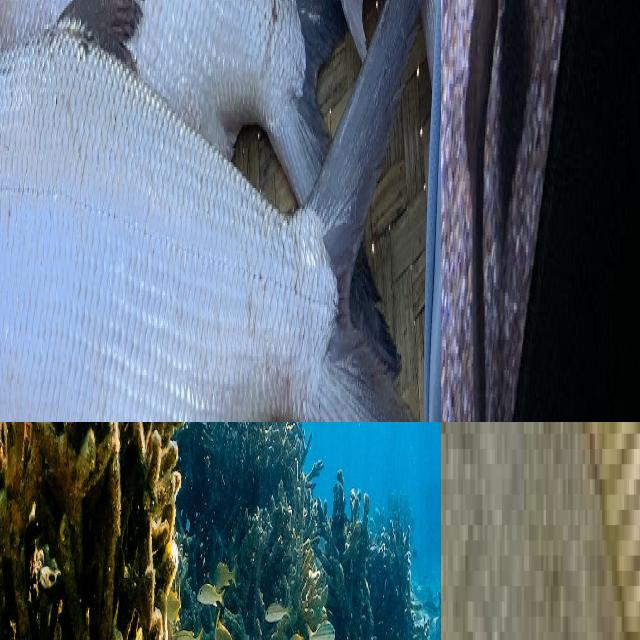fish: (0, 0, 441, 422), (441, 422, 560, 640)
